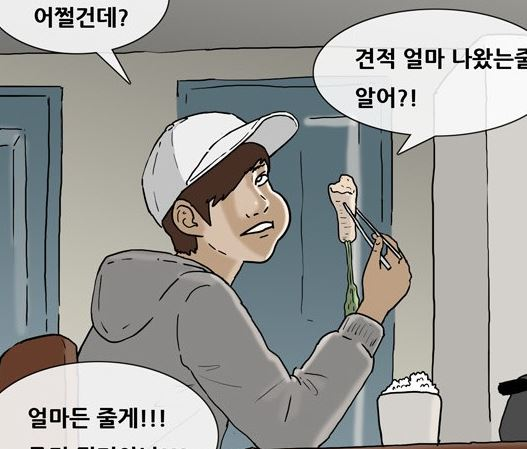hat: (131, 109, 299, 177)
